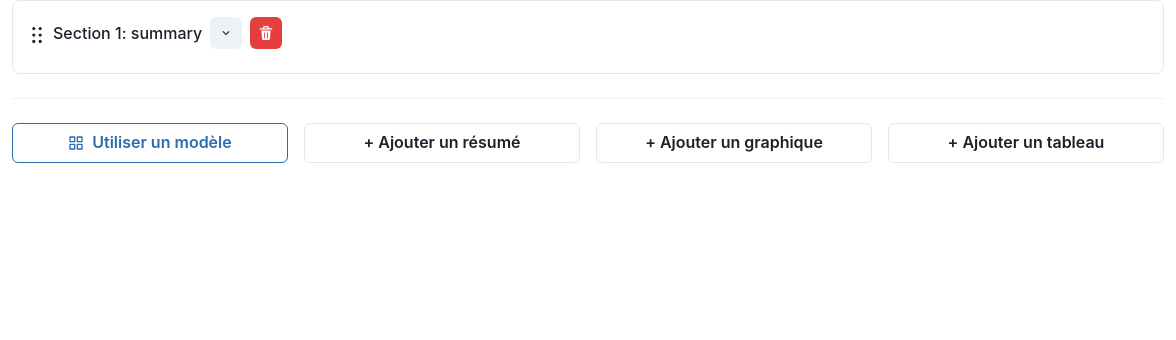
SectionEditor › expands section details when clicked
Click the button named "toggle section" at (226, 33), box 210,17 -> 242,49
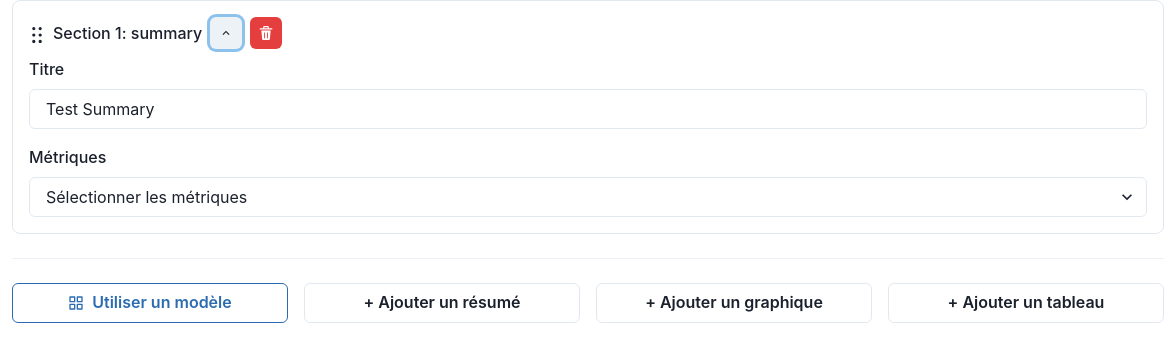
Now the field labelled "Titre" is shown, box 29,89 -> 1147,129
